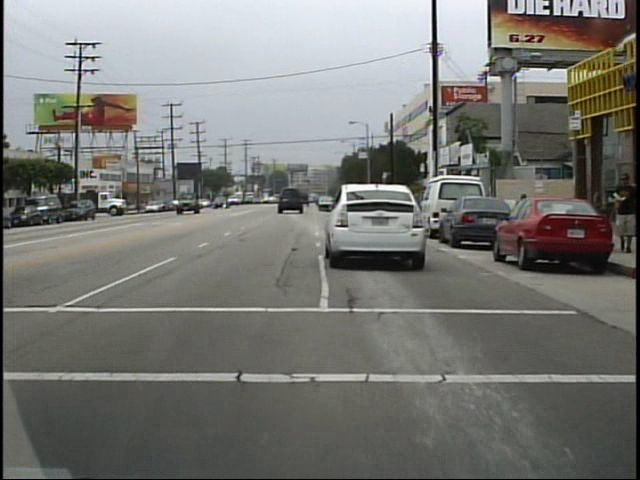person: (605, 168, 636, 258)
